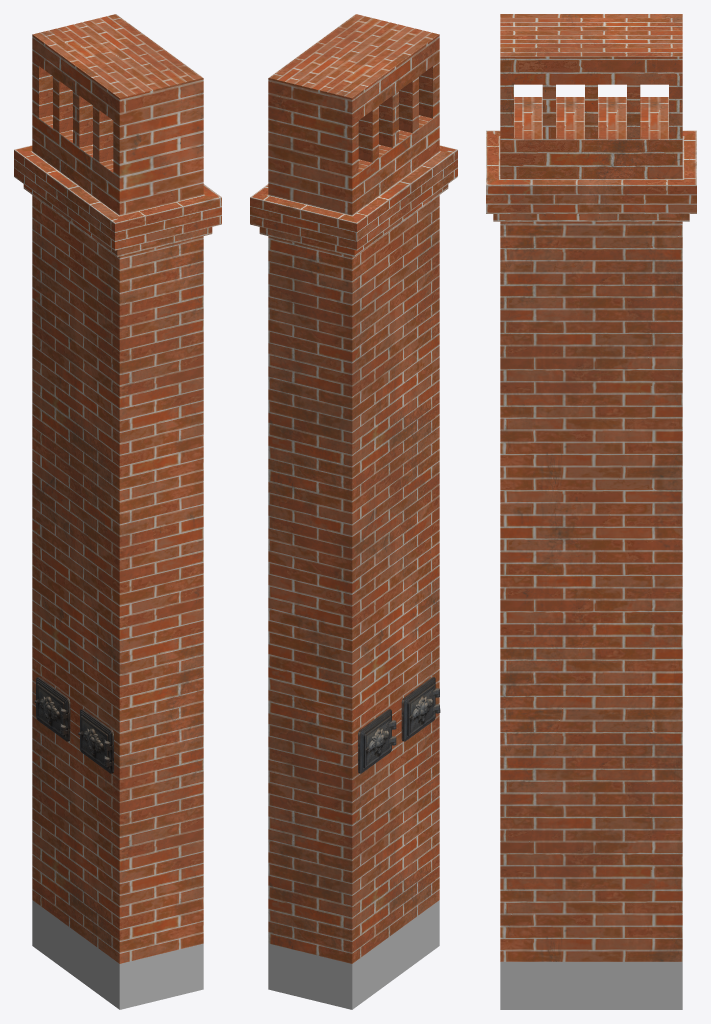
Rendered from SM_Chimney02A.fbx.
3 views of the same model, side by side, from view 1: azimuth 30°, elevation 25°; view 2: azimuth 150°, elevation 25°; view 3: azimuth 270°, elevation 25° (orthographic). The views are drawn at different scales.
Parts seen in each view (by area): view 1: SM_Chimney02A; view 2: SM_Chimney02A; view 3: SM_Chimney02A.
Boxes of the visible parts, left/top/right/bottom form: SM_Chimney02A: left=14, top=14, right=221, bottom=1009; SM_Chimney02A: left=250, top=14, right=457, bottom=1009; SM_Chimney02A: left=486, top=14, right=696, bottom=1009.
Size of the model in its own units: 65.04 by 106 by 529.
